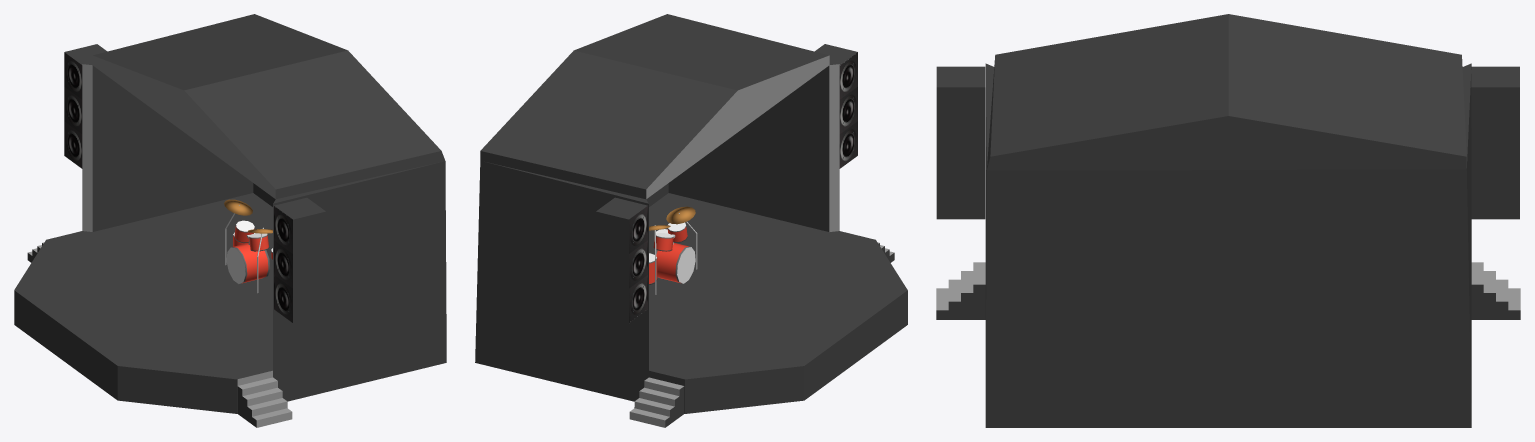
File: ScenarioBig.fbx
3 views of the same model, side by side, from view 1: azimuth 30°, elevation 25°; view 2: azimuth 150°, elevation 25°; view 3: azimuth 270°, elevation 25° (orthographic). The views are drawn at different scales.
Visible parts, largest first — view 1: Stage, Batery; view 2: Stage, Batery; view 3: Stage.
Boxes of the visible parts, bbox=[...] form: Stage: bbox=[14, 14, 446, 427]; Batery: bbox=[224, 199, 272, 293]; Stage: bbox=[475, 14, 907, 427]; Batery: bbox=[649, 206, 697, 294]; Stage: bbox=[936, 14, 1520, 427].
Bounding box in the file's own units: 1728 × 1408 × 2404.
